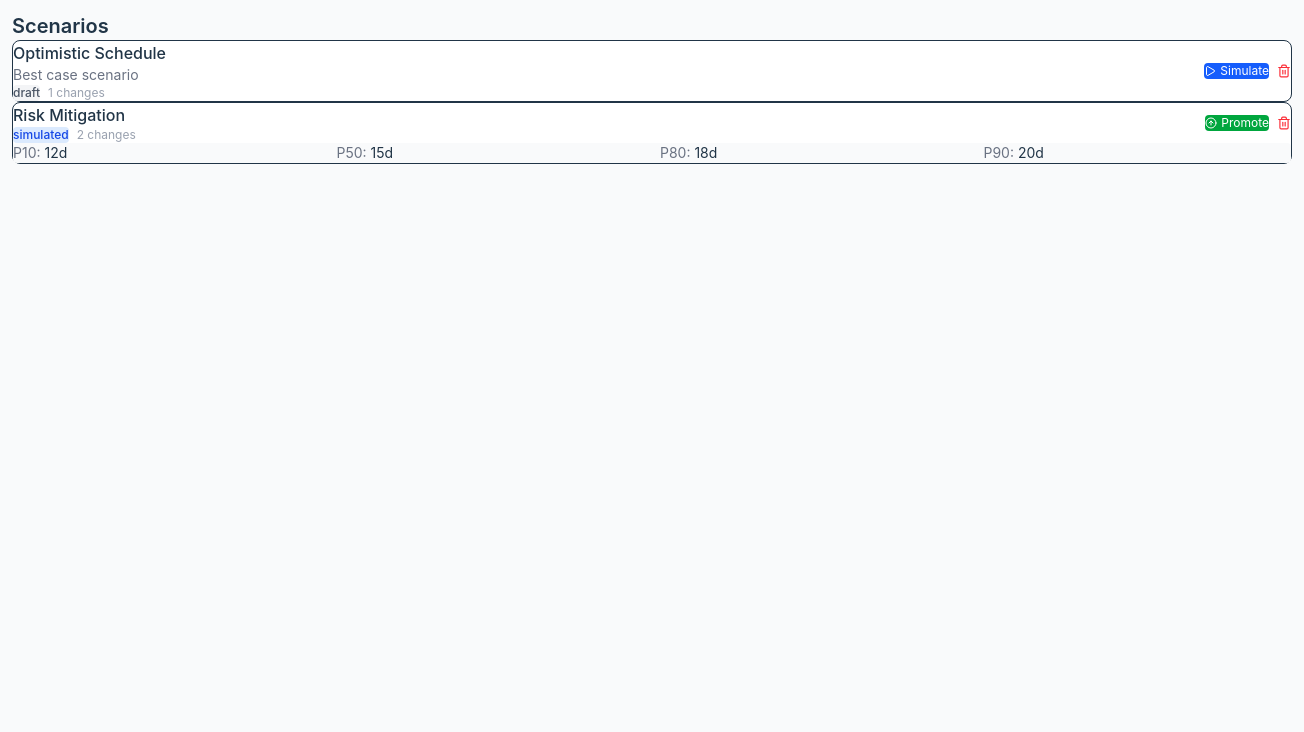
Scenario: ScenarioList › delete scenario › deletes scenario when confirmed
This screenshot has width=1304, height=732.
Click the button titled "Delete".
click(1284, 71)  # box top-left (1277, 64), bottom-right (1291, 78)
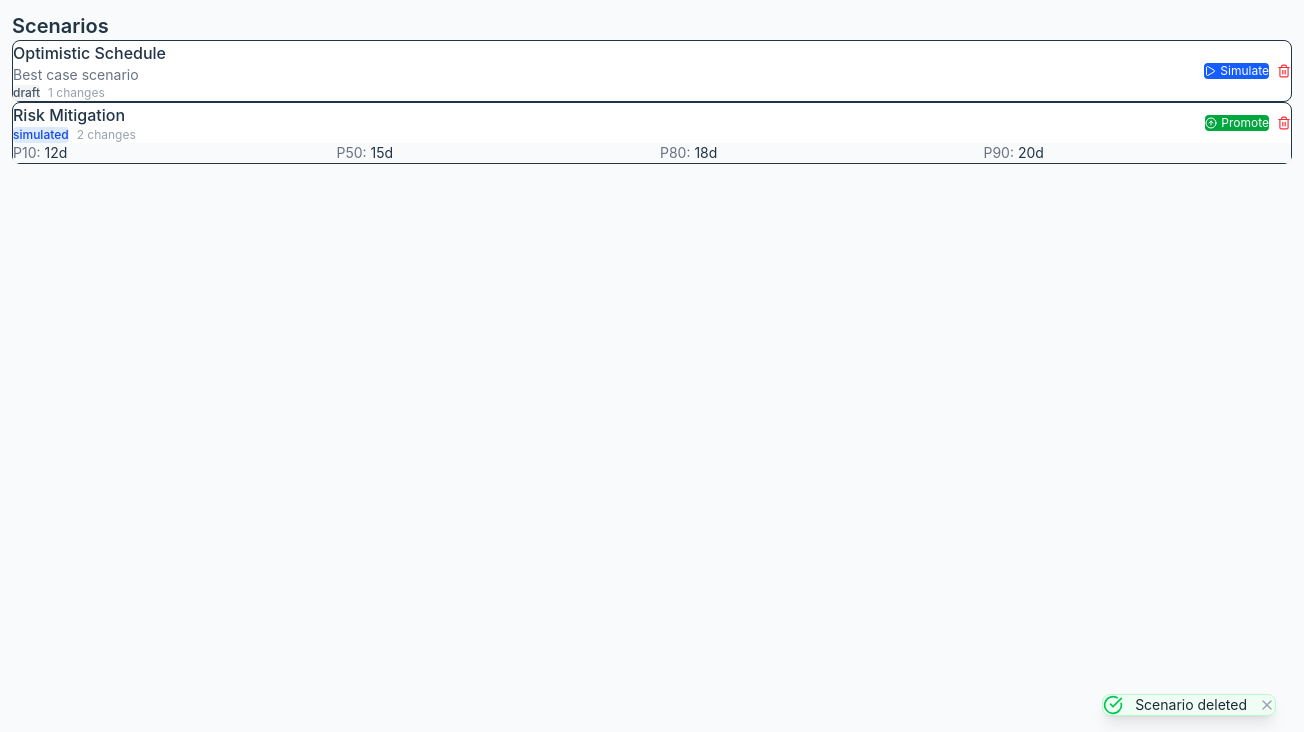
Now the text "Scenario deleted" is shown, box top-left (1135, 695), bottom-right (1247, 715)
